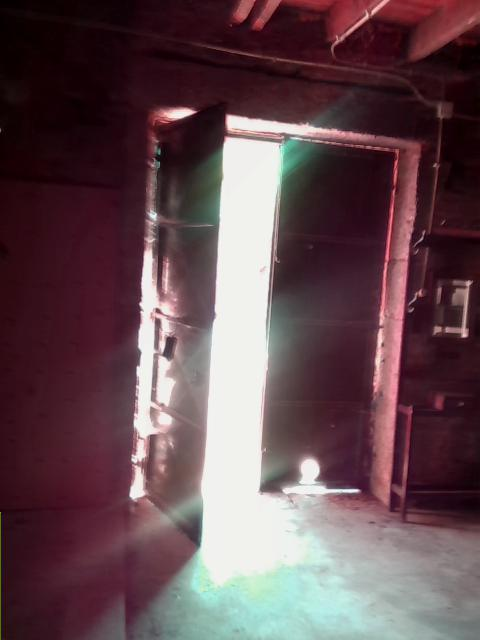semi_door: (128, 96, 402, 548)
